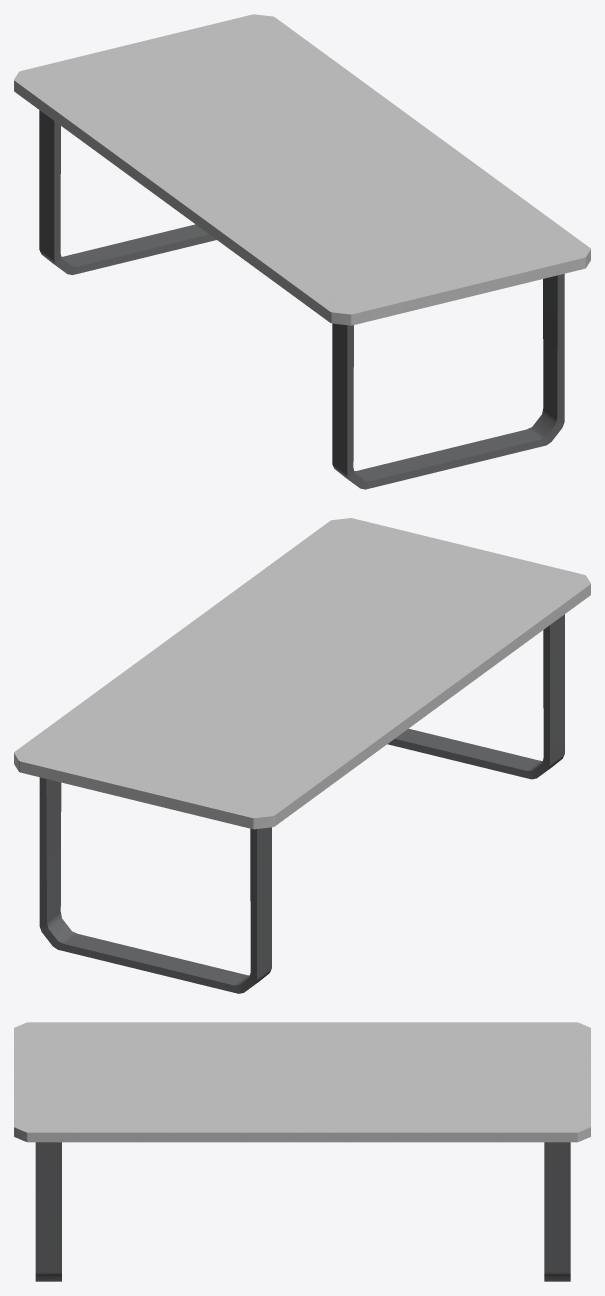
Rendered from SM_Table_Desk_a_250_115_75.fbx.
3 renders of one model, top to bottom at view 1: azimuth 30°, elevation 25°; view 2: azimuth 150°, elevation 25°; view 3: azimuth 270°, elevation 25°, orthographic. The views are drawn at different scales.
Visible parts, largest first — view 1: polySurface634, polySurface635; view 2: polySurface634, polySurface635; view 3: polySurface634, polySurface635.
Part boxes in pixels (bbox=[...]): polySurface634: bbox=[14, 14, 590, 325]; polySurface635: bbox=[39, 110, 564, 489]; polySurface634: bbox=[14, 518, 590, 829]; polySurface635: bbox=[39, 614, 564, 993]; polySurface634: bbox=[14, 1022, 590, 1142]; polySurface635: bbox=[35, 1142, 570, 1281].
Bounding box in the file's own units: 1.07 × 0.75 × 2.37.
